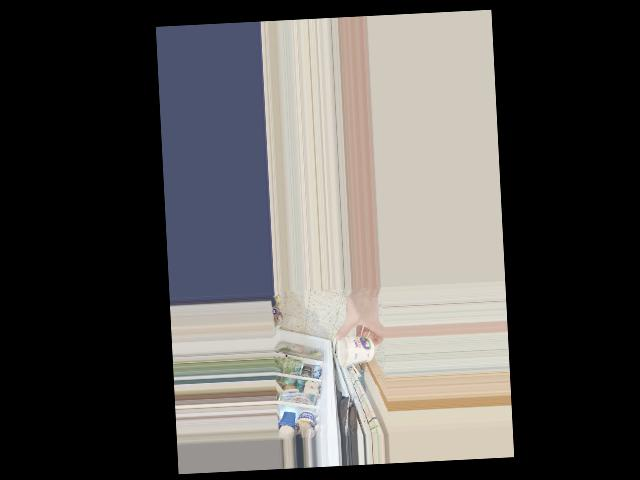cotage: (338, 331, 373, 363)
